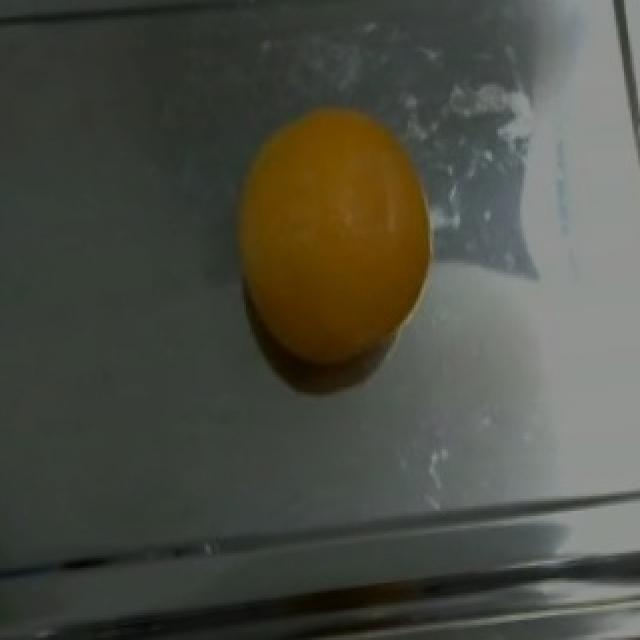Fruit: (208, 96, 452, 384)
